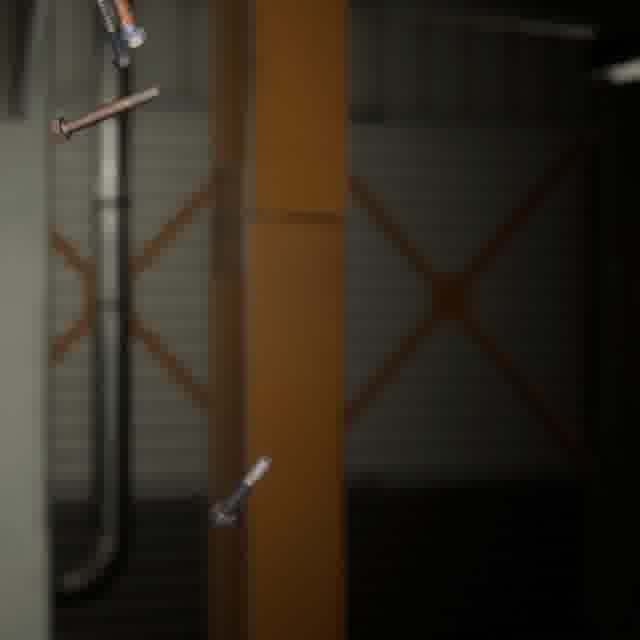bolt: (46, 80, 166, 147), (204, 449, 277, 532), (90, 0, 138, 72), (105, 0, 151, 52)
